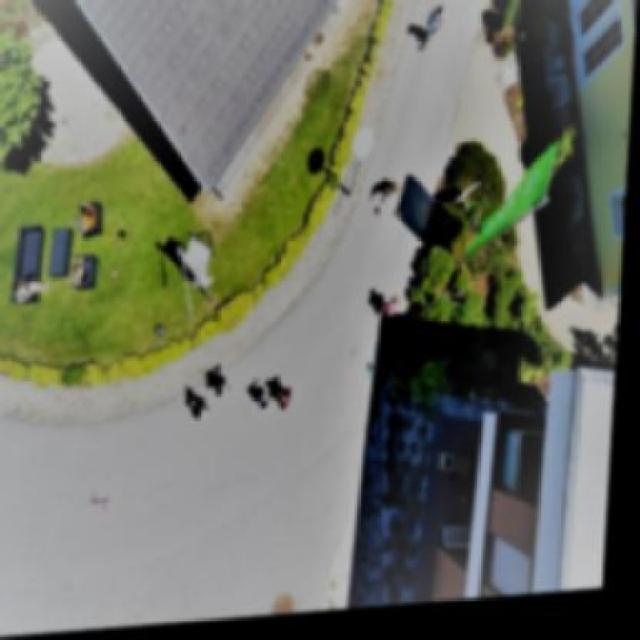Person: (414, 5, 451, 64), (372, 180, 412, 229), (19, 276, 59, 307), (213, 376, 244, 406), (382, 295, 411, 327), (80, 198, 102, 240), (282, 386, 302, 420), (261, 378, 279, 414), (202, 387, 220, 422), (75, 255, 93, 290)
